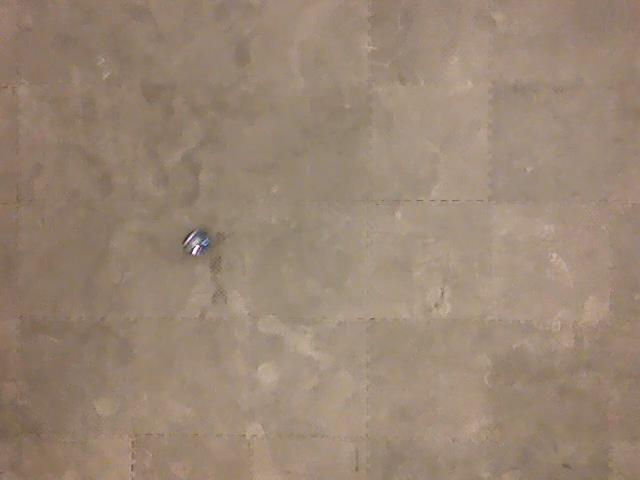Agent: (180, 227, 214, 258)
